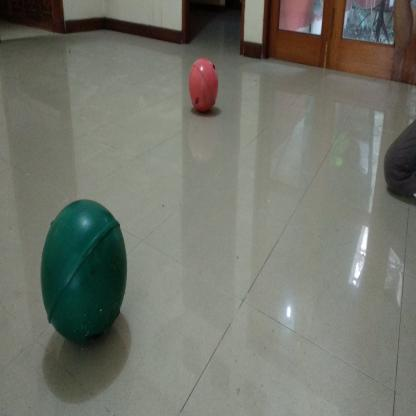green_buoy: (36, 195, 129, 356)
red_buoy: (186, 53, 221, 115)
